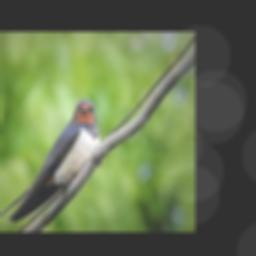Swallow: (0, 98, 101, 229)
